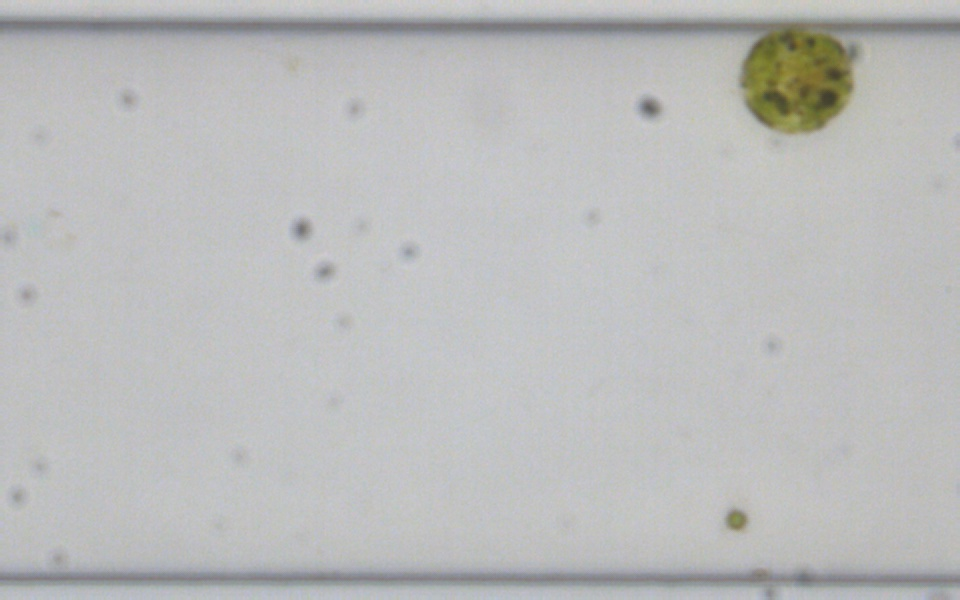Chlorella: (724, 506, 747, 532)
Haematococcus: (734, 23, 854, 137)
